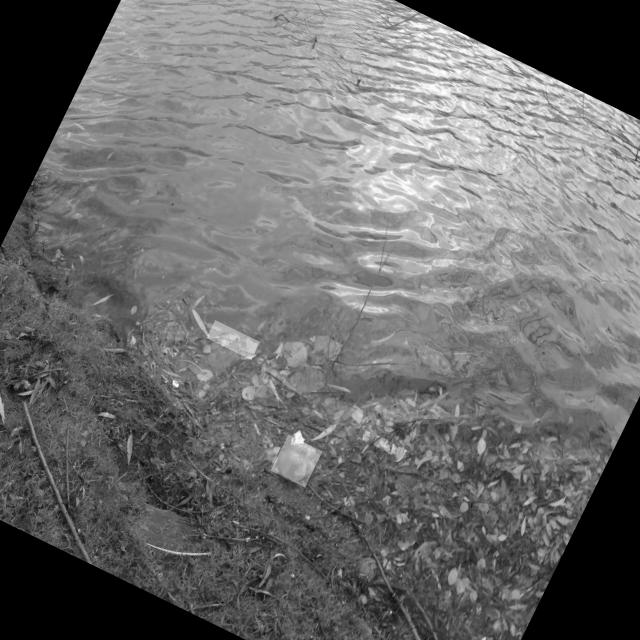Clear plastic bottle: (276, 443, 315, 481)
Other plastic: (206, 332, 256, 353)
